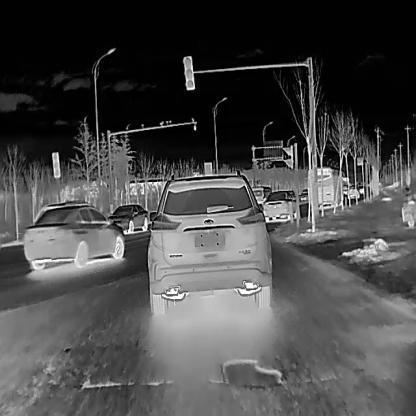car: (146, 168, 272, 315), (21, 199, 125, 271), (306, 166, 341, 207), (262, 189, 300, 222), (105, 204, 148, 233), (250, 185, 271, 203), (347, 184, 360, 198), (300, 188, 308, 202), (358, 185, 365, 195), (342, 184, 348, 195)
